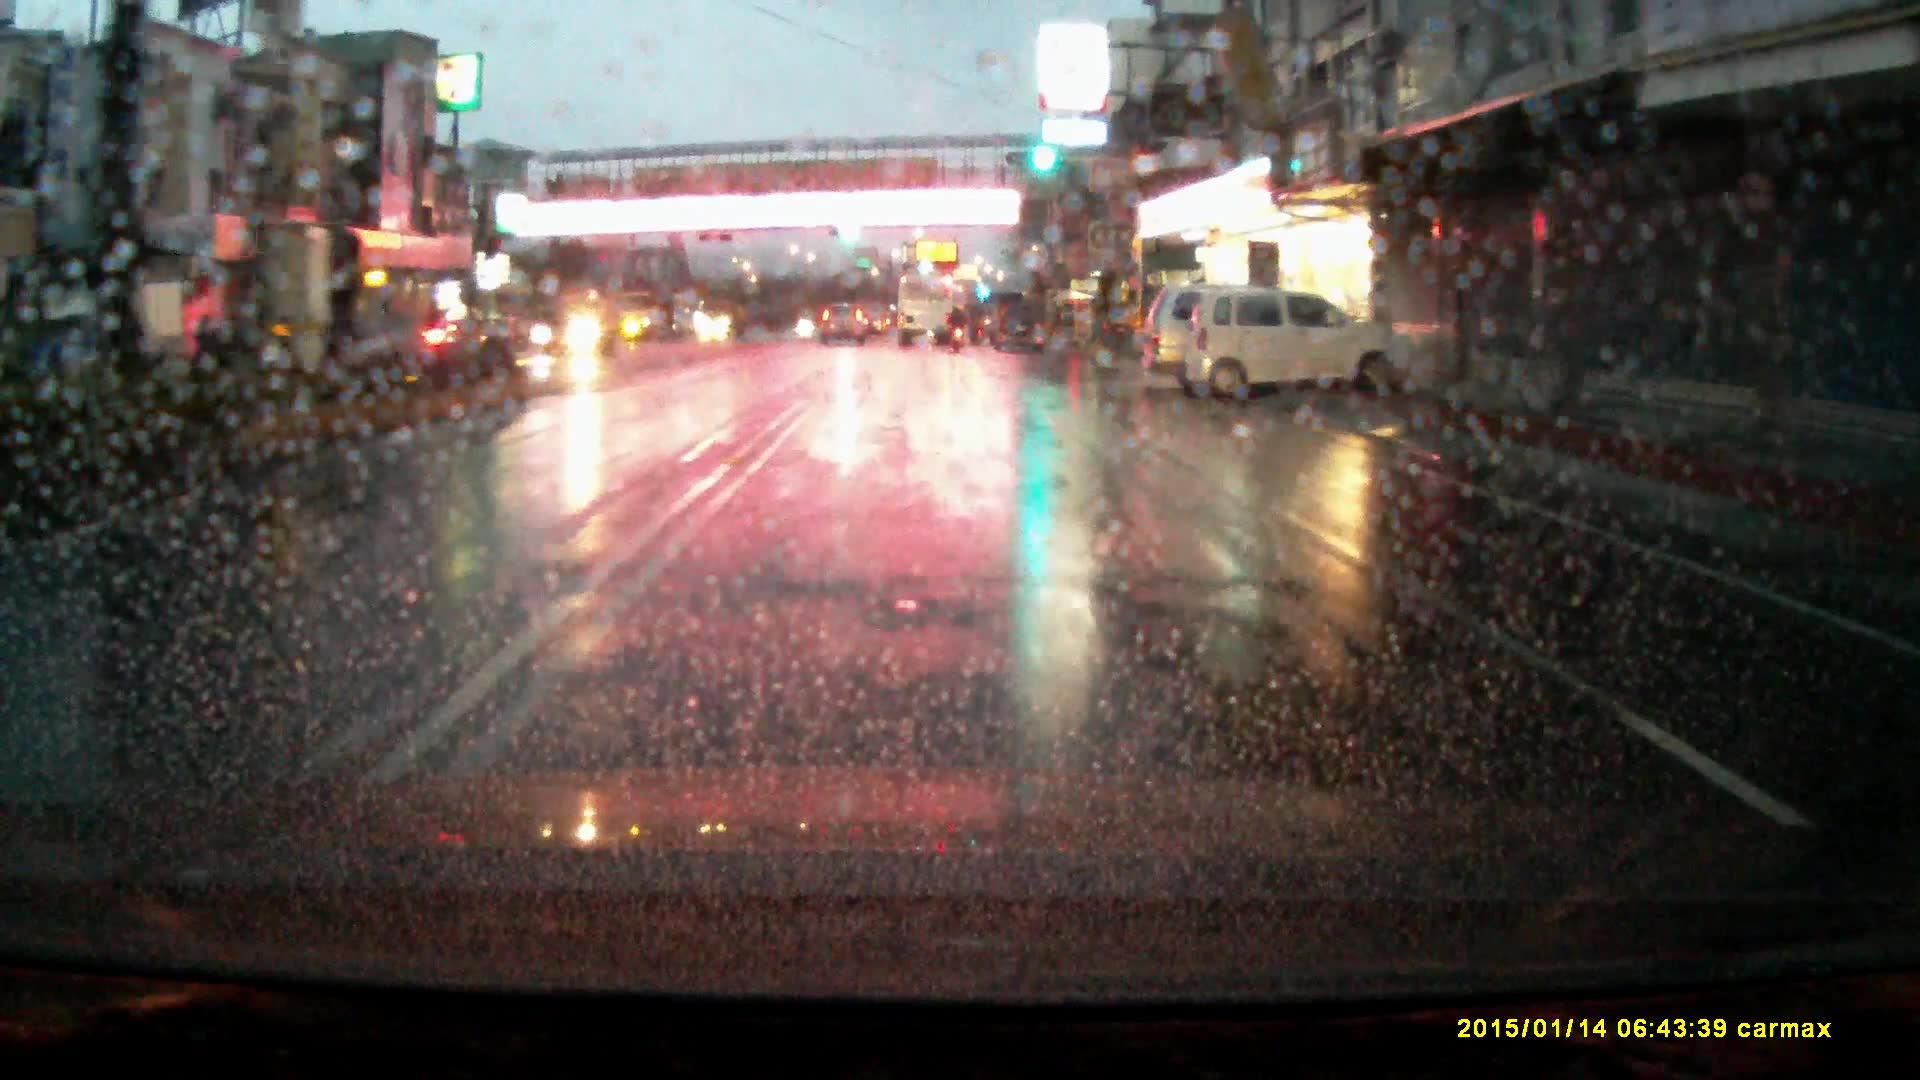rider: (948, 308, 968, 360)
vehicle: (1187, 293, 1426, 415), (1141, 288, 1287, 393), (36, 284, 189, 381), (529, 294, 623, 360), (898, 278, 953, 347), (989, 303, 1049, 357), (695, 299, 748, 341), (821, 304, 867, 348)
